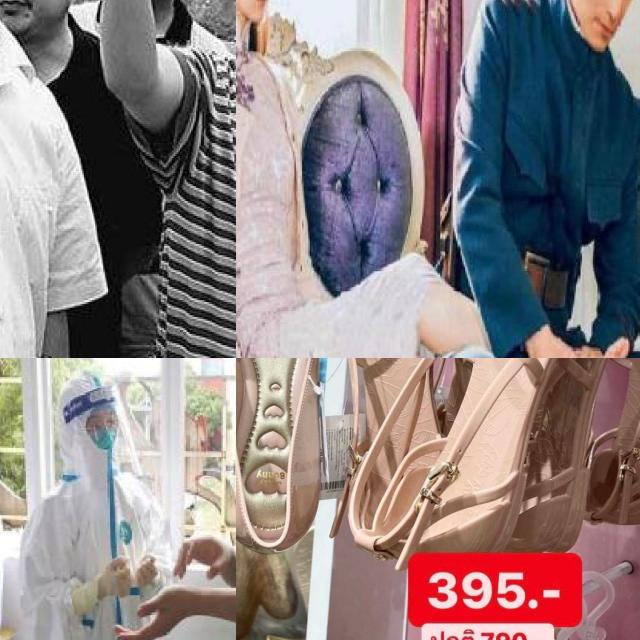Sandals: (331, 358, 604, 571)
face_nomask: (566, 0, 640, 60)
hand_glove: (98, 556, 132, 600), (135, 554, 158, 589)
hand_noglove: (113, 585, 189, 640), (172, 531, 231, 582), (520, 322, 588, 358)
head_nohelmet: (62, 366, 125, 426)
person: (236, 0, 437, 358), (448, 0, 640, 358), (0, 386, 193, 640), (0, 0, 105, 358), (145, 0, 236, 358), (161, 358, 236, 640)
